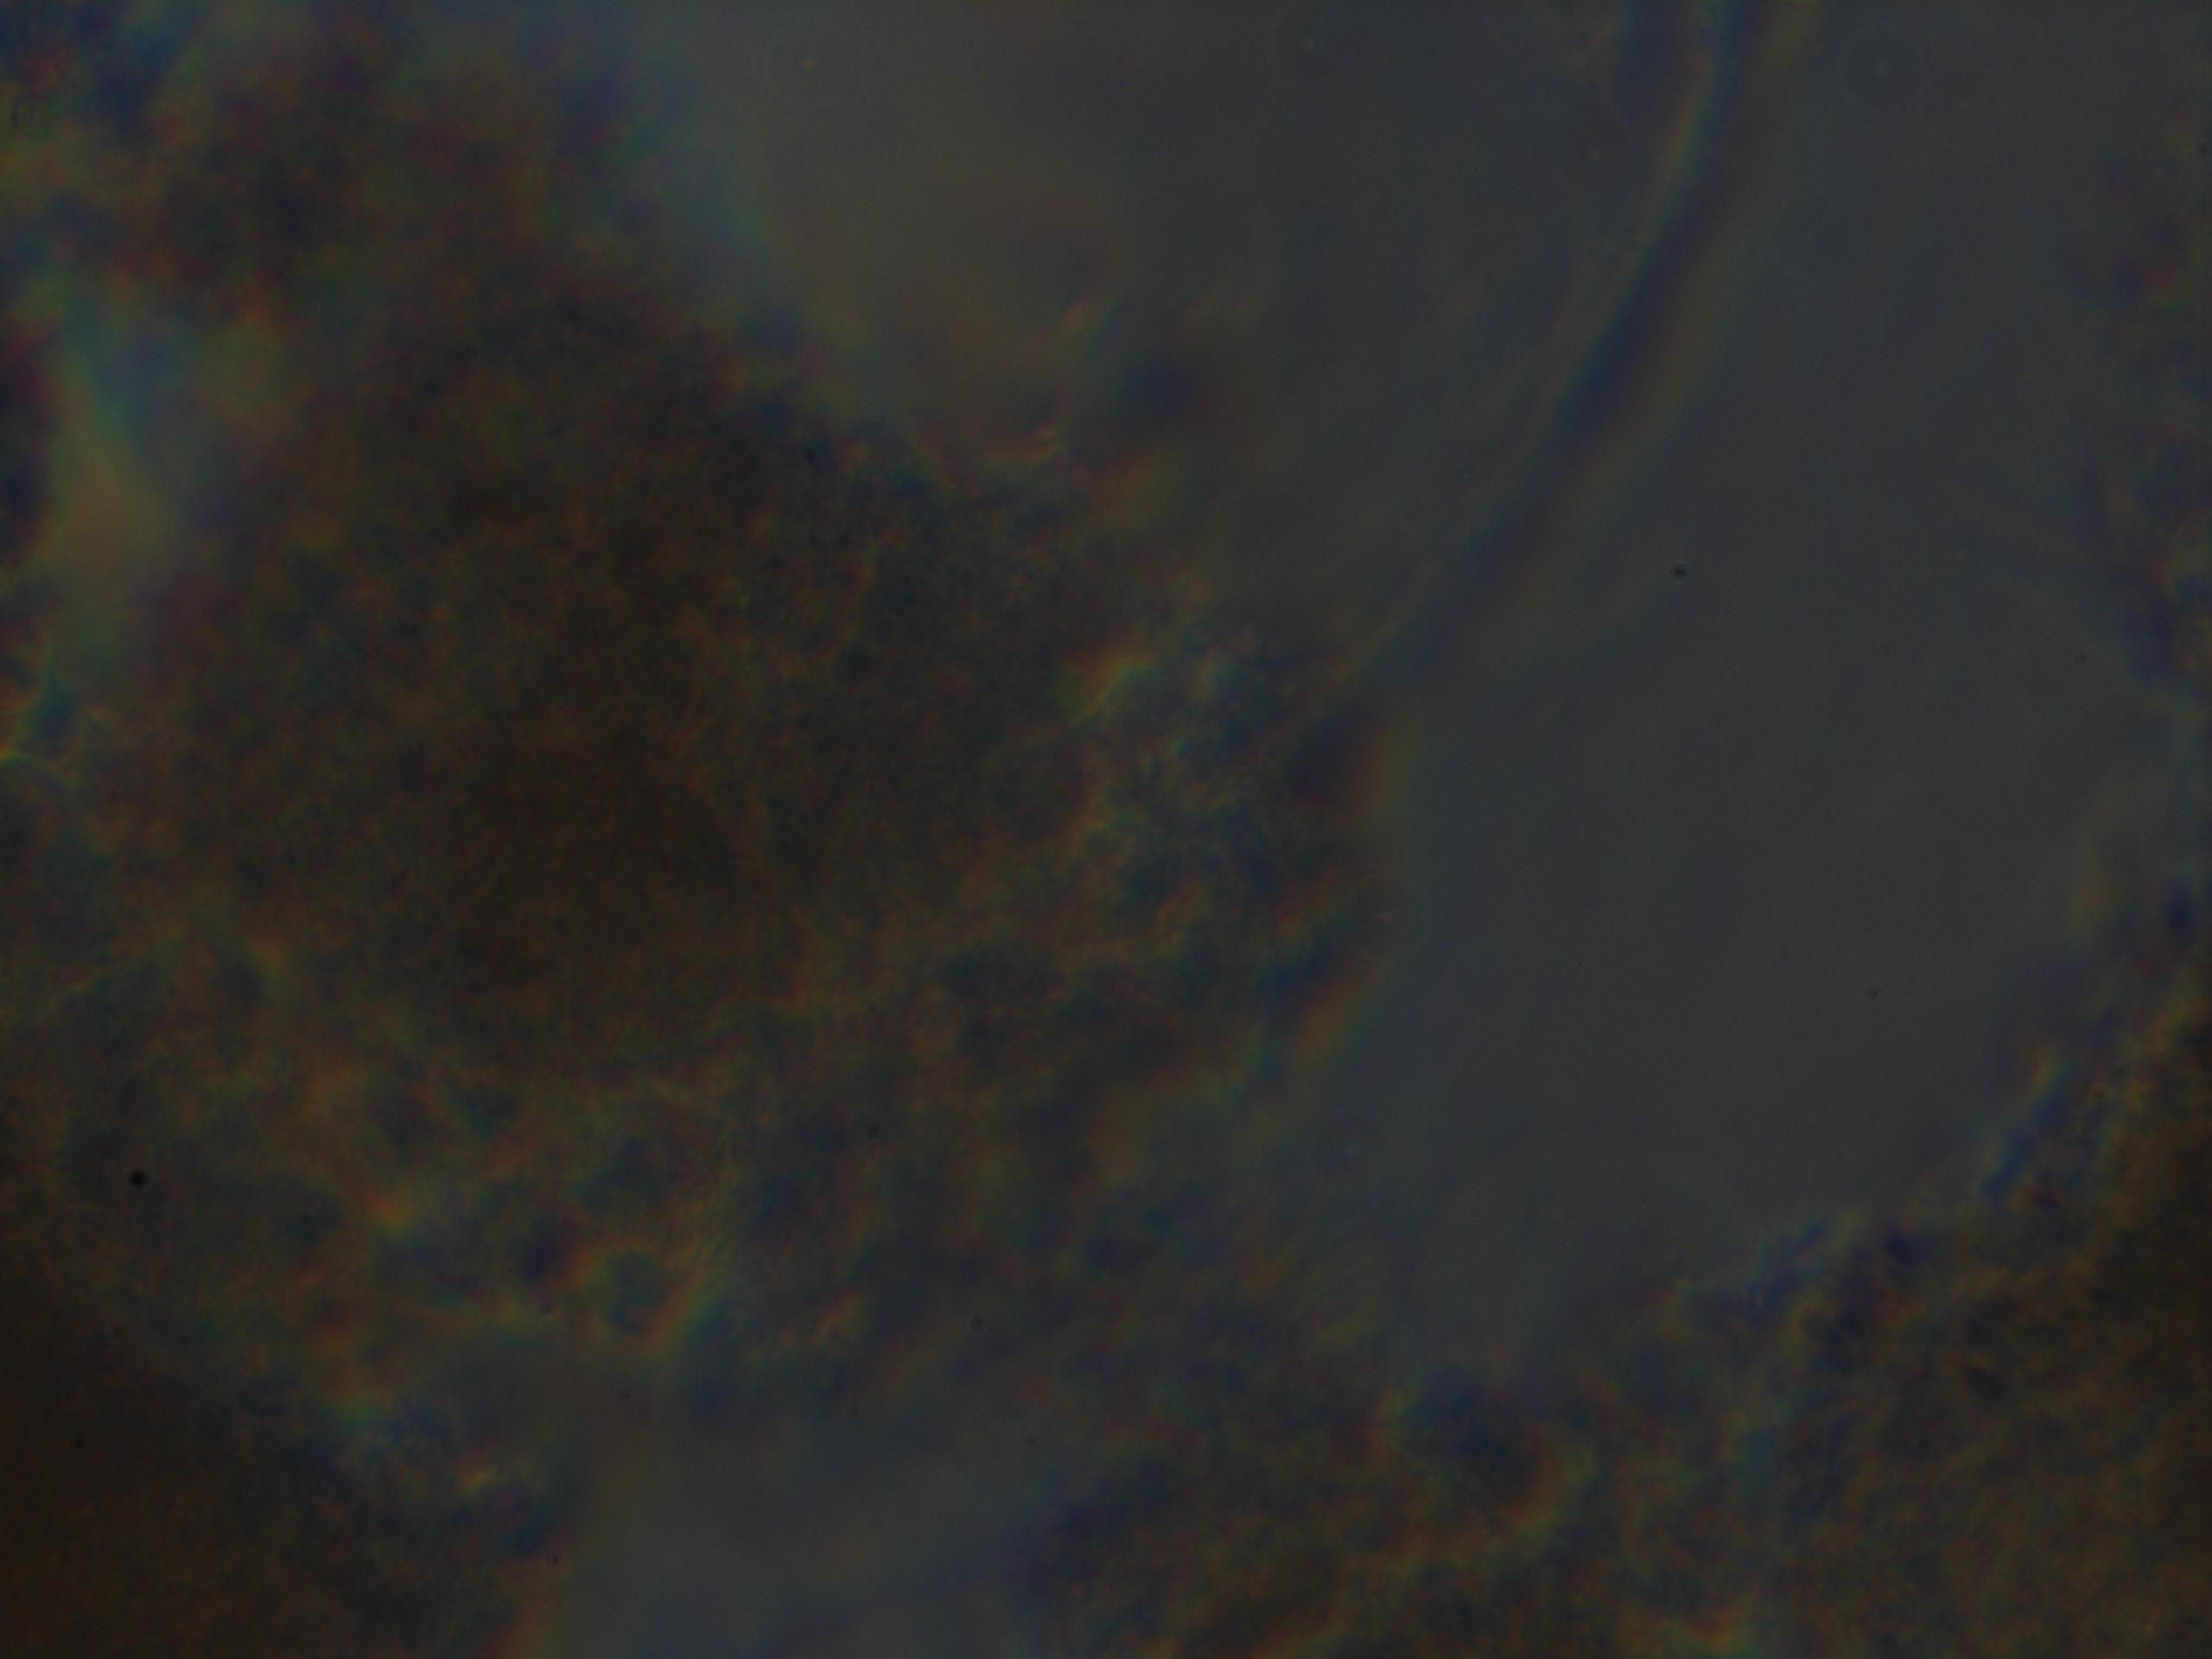filament: (1271, 0, 1770, 781)
